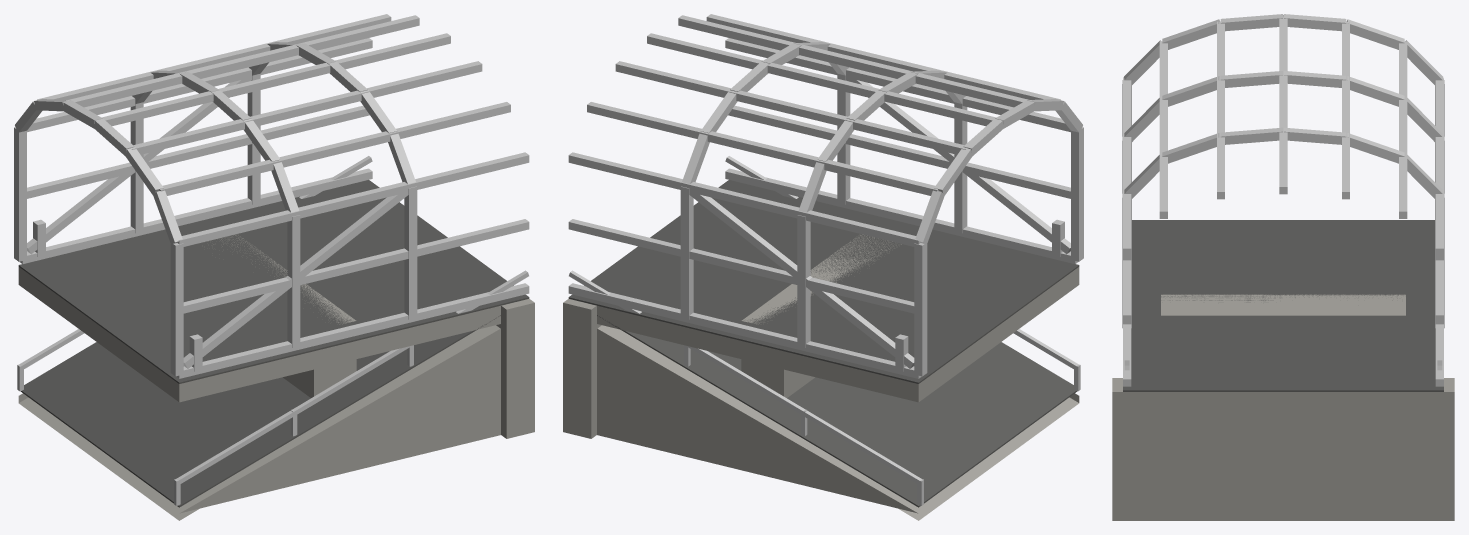
Rendered from most_potrubni.glb.
3 renders of one model, left to right at view 1: azimuth 30°, elevation 25°; view 2: azimuth 150°, elevation 25°; view 3: azimuth 270°, elevation 25°, orthographic.
Visible parts, largest first — view 1: stred, hlava, konec, pilir; view 2: stred, hlava, konec, pilir; view 3: stred, hlava, pilir, konec.
Boxes of the visible parts, bbox=[...] form: stred: bbox=[14, 14, 529, 402]; hlava: bbox=[17, 156, 534, 520]; konec: bbox=[27, 15, 528, 371]; pilir: bbox=[208, 235, 356, 397]; stred: bbox=[568, 14, 1083, 402]; hlava: bbox=[563, 156, 1080, 520]; konec: bbox=[568, 14, 1070, 371]; pilir: bbox=[741, 234, 901, 397]; stred: bbox=[1122, 14, 1444, 409]; hlava: bbox=[1112, 360, 1454, 520]; pilir: bbox=[1161, 294, 1405, 315]; konec: bbox=[1122, 131, 1444, 315].
Bounding box in the file's own units: 15.04 × 13.87 × 12.6.
Materials: 1 (1 with a texture image).
